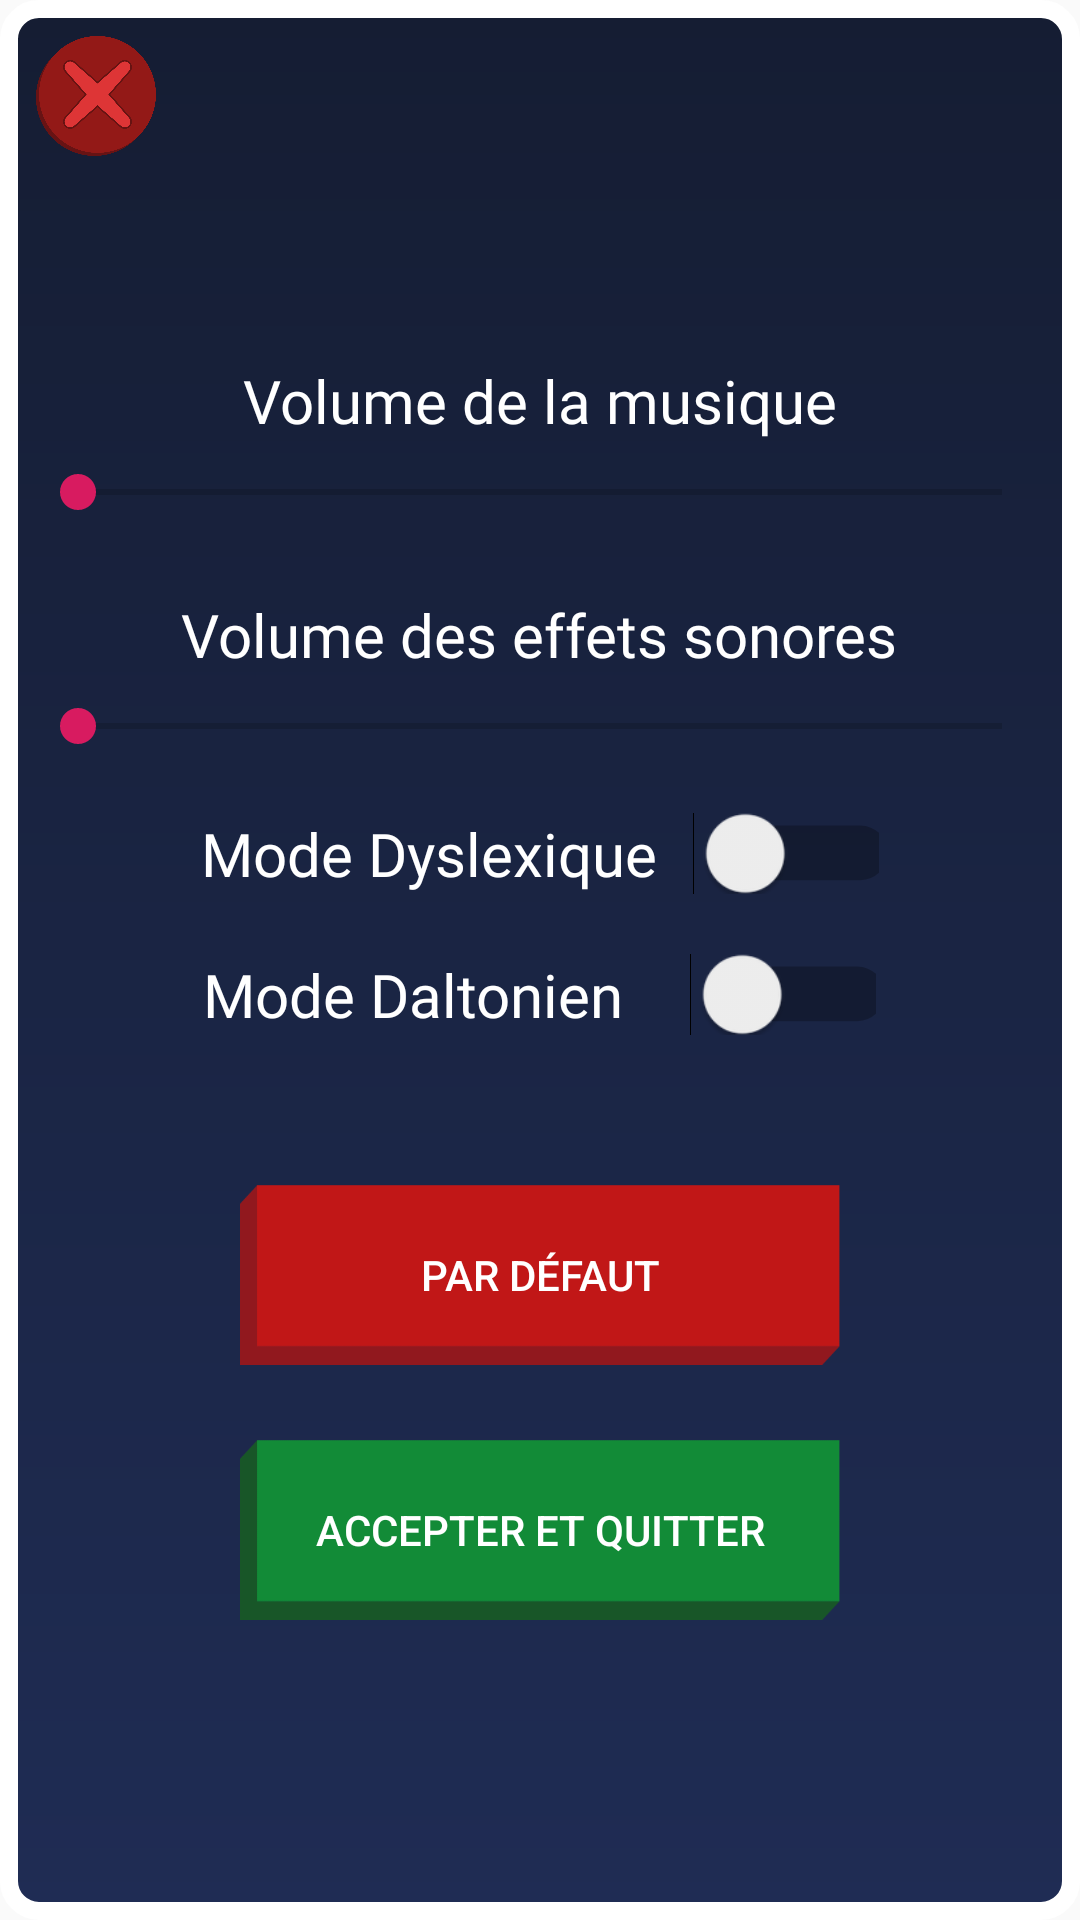

Screen size 1080w x 1920h. Icon name, then its box in pixels as (left=x1, top=y1, right=x2, bottom=y2):
bouton quit: (left=36, top=36, right=156, bottom=156)
